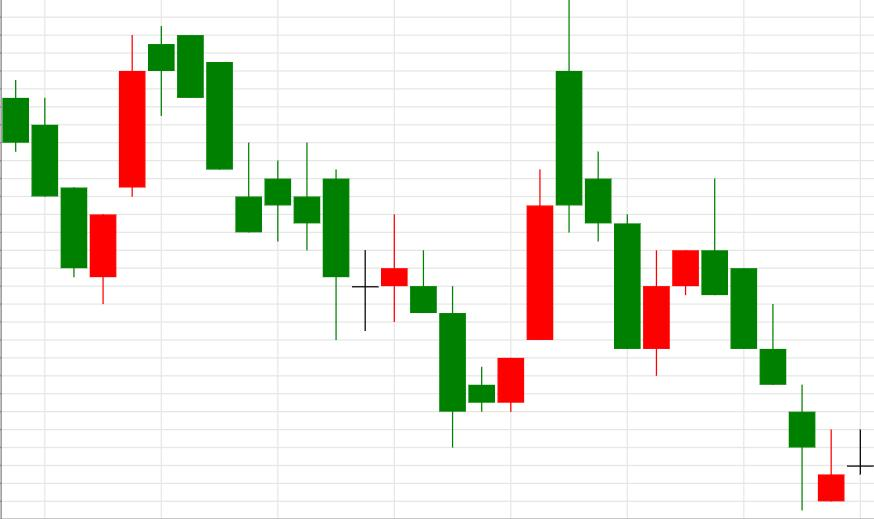three_black_crows_fall: (468, 0, 640, 412)
